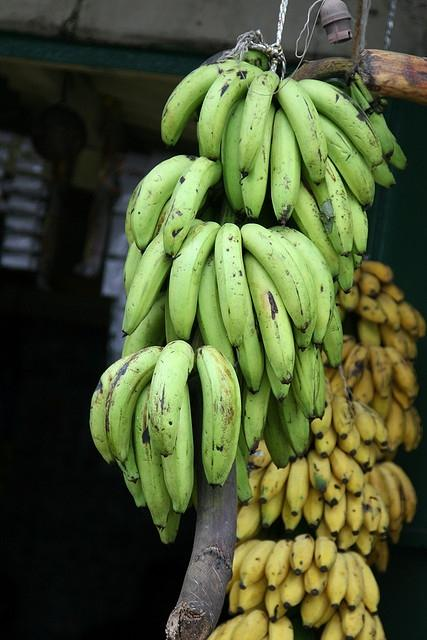banana: (160, 59, 250, 150), (268, 225, 335, 345), (240, 223, 311, 334), (298, 79, 383, 166), (103, 346, 165, 464), (243, 247, 296, 384), (130, 154, 199, 256), (195, 345, 242, 489), (264, 228, 318, 352), (198, 61, 264, 162), (162, 156, 222, 262), (169, 221, 221, 340), (133, 379, 171, 531), (121, 231, 174, 338), (276, 78, 328, 186), (318, 112, 375, 210), (300, 153, 353, 258), (148, 339, 194, 458), (196, 246, 238, 376), (291, 174, 339, 282), (214, 222, 248, 370), (90, 353, 134, 466), (238, 70, 280, 186), (162, 382, 194, 514), (241, 100, 276, 220), (235, 262, 264, 395), (270, 107, 302, 226), (121, 291, 167, 358), (242, 361, 272, 455), (222, 98, 246, 215), (376, 461, 418, 524), (276, 382, 310, 458), (291, 336, 320, 420), (340, 177, 369, 256), (264, 388, 291, 468), (230, 586, 270, 640), (347, 551, 380, 613), (331, 344, 369, 397), (225, 540, 262, 594), (376, 466, 406, 532), (238, 540, 276, 590), (116, 409, 140, 485), (125, 174, 148, 248), (320, 302, 343, 370), (264, 540, 294, 592), (264, 349, 292, 404), (384, 346, 417, 392), (367, 290, 402, 332), (285, 456, 309, 516), (342, 553, 366, 611), (261, 478, 288, 528), (259, 462, 291, 504), (325, 552, 348, 610), (370, 345, 394, 400), (349, 400, 377, 446), (236, 574, 268, 614), (362, 402, 390, 447), (366, 112, 394, 156), (124, 239, 144, 300), (241, 464, 270, 506), (382, 127, 410, 170), (300, 590, 330, 630), (362, 155, 397, 189), (235, 443, 254, 504), (354, 290, 388, 324), (330, 396, 356, 440), (386, 400, 407, 453), (157, 498, 181, 544), (302, 482, 324, 532), (247, 434, 272, 478), (280, 568, 306, 610), (339, 599, 365, 640), (324, 491, 347, 537), (307, 450, 331, 494), (378, 324, 408, 359), (370, 484, 390, 536), (369, 465, 390, 514), (236, 502, 261, 543), (328, 446, 354, 485), (364, 480, 382, 536), (337, 414, 361, 456), (290, 534, 314, 576), (352, 361, 374, 406), (165, 278, 180, 344), (264, 584, 289, 623), (314, 418, 338, 458), (216, 612, 250, 640), (313, 536, 338, 573), (304, 558, 328, 596), (346, 490, 366, 535), (351, 80, 377, 114), (334, 520, 360, 554), (310, 402, 333, 440), (360, 260, 394, 285), (320, 608, 346, 640), (346, 458, 366, 498), (124, 472, 146, 508), (324, 472, 346, 507), (371, 387, 392, 423), (354, 606, 376, 640), (402, 408, 418, 452), (338, 250, 354, 294), (372, 536, 390, 574), (282, 497, 302, 531), (357, 270, 381, 297), (313, 601, 336, 629), (404, 360, 420, 400), (397, 302, 419, 331), (380, 280, 404, 305), (268, 616, 294, 639), (355, 524, 372, 559), (339, 284, 360, 312), (360, 318, 378, 349), (392, 381, 410, 411), (207, 620, 234, 640), (316, 516, 337, 541), (354, 439, 372, 468), (402, 328, 418, 359), (228, 580, 241, 616), (342, 334, 356, 362), (415, 310, 426, 338), (390, 522, 402, 544), (401, 326, 418, 338), (374, 442, 385, 460), (352, 266, 361, 286)
